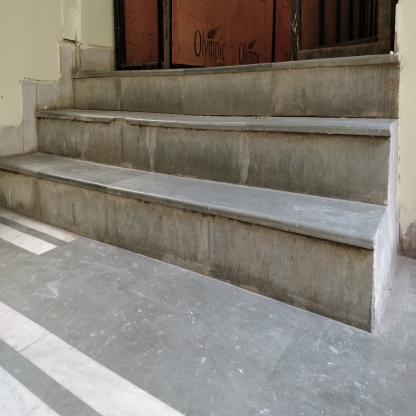stairs: (74, 58, 372, 292)
